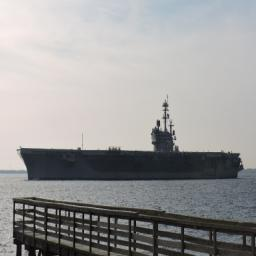Portanaves: (17, 93, 247, 183)
